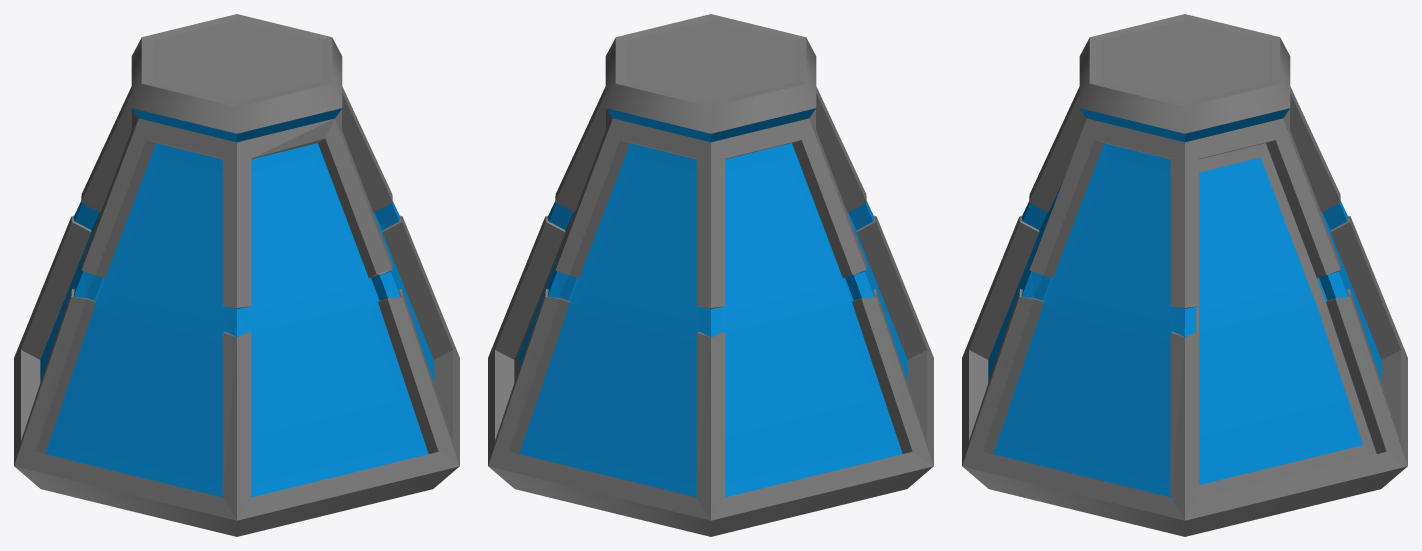
Rendered from PowerUp-Item.fbx.
The picture shows the model from 3 angles, left to right: view 1: azimuth 30°, elevation 25°; view 2: azimuth 150°, elevation 25°; view 3: azimuth 270°, elevation 25°; orthographic projection.
Visible parts, largest first — view 1: PoweUp; view 2: PoweUp; view 3: PoweUp.
Part boxes in pixels (bbox=[...]): PoweUp: bbox=[14, 14, 459, 536]; PoweUp: bbox=[488, 14, 933, 536]; PoweUp: bbox=[962, 14, 1407, 536].
Size of the model in its own units: 49.89 by 40.73 by 43.21.
